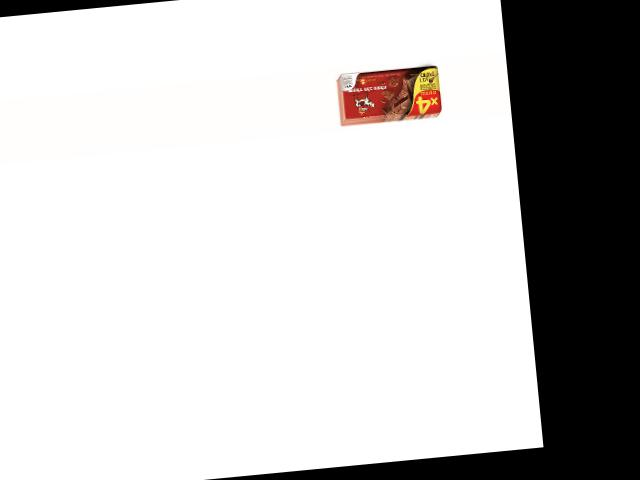chocolate: (337, 62, 443, 125)
